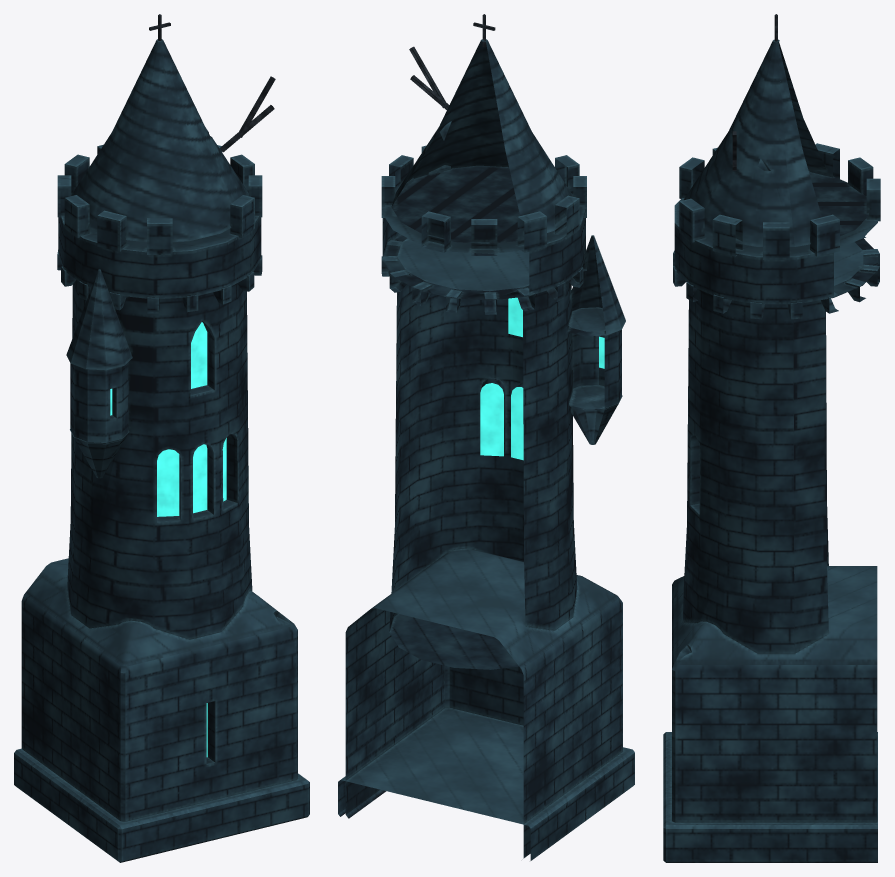
Rendered from BG_Tower_B.fbx.
3 renders of one model, left to right at view 1: azimuth 30°, elevation 25°; view 2: azimuth 150°, elevation 25°; view 3: azimuth 270°, elevation 25°, orthographic. The views are drawn at different scales.
Visible parts, largest first — view 1: BG_Tower_B; view 2: BG_Tower_B; view 3: BG_Tower_B.
Part boxes in pixels (left/top/right/bottom): BG_Tower_B: left=14, top=14, right=309, bottom=862; BG_Tower_B: left=338, top=14, right=634, bottom=860; BG_Tower_B: left=663, top=14, right=880, bottom=862.
Size of the model in its own units: 7.08 by 25.45 by 6.25.
